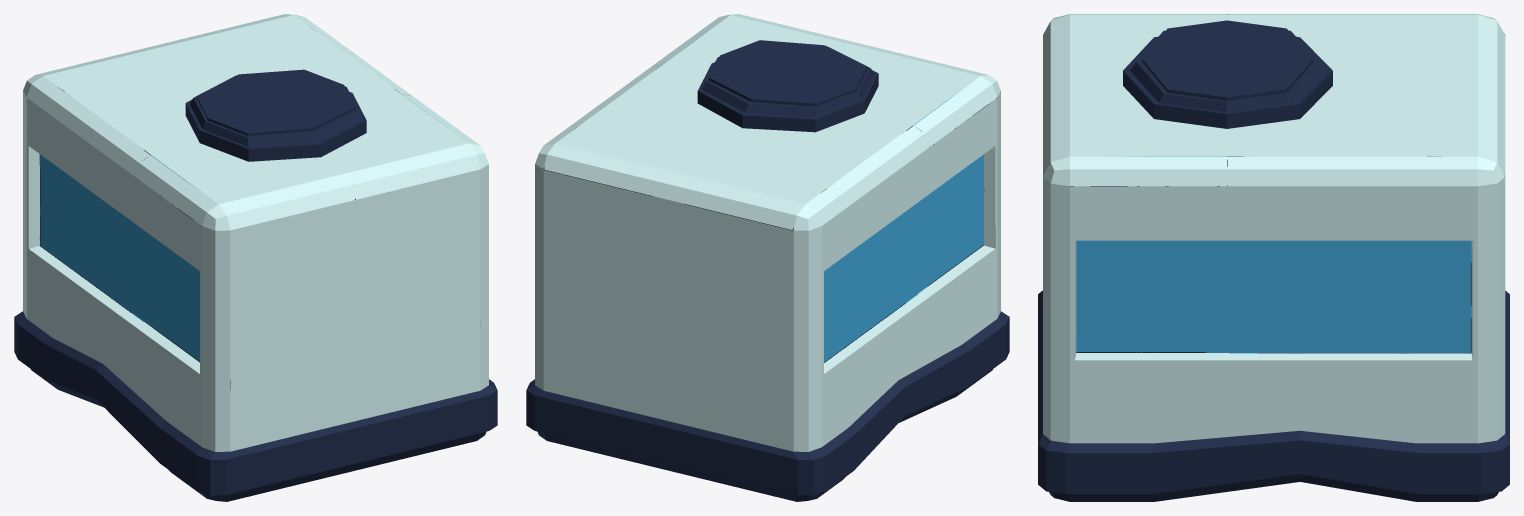
The model's file is carbase.fbx.
3 views of the same model, side by side, from view 1: azimuth 30°, elevation 25°; view 2: azimuth 150°, elevation 25°; view 3: azimuth 270°, elevation 25° (orthographic). The views are drawn at different scales.
Visible parts, largest first — view 1: carbase; view 2: carbase; view 3: carbase.
Boxes of the visible parts, x1=… form: carbase: x1=14, y1=14, x2=497, y2=501; carbase: x1=526, y1=14, x2=1009, y2=501; carbase: x1=1038, y1=14, x2=1509, y2=501.
Bounding box in the file's own units: 210 × 215 × 248.
